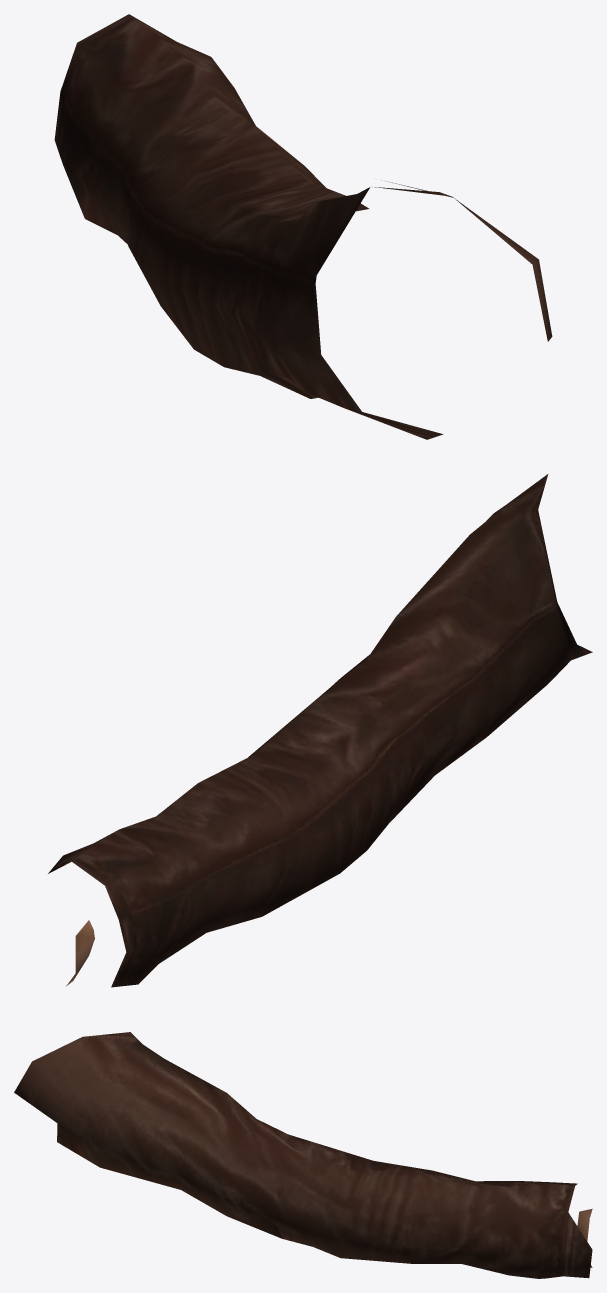
File: first_person_tool_sleeve.glb
The picture shows the model from 3 angles, top to bottom: view 1: azimuth 30°, elevation 25°; view 2: azimuth 150°, elevation 25°; view 3: azimuth 270°, elevation 25°; orthographic projection. The views are drawn at different scales.
Parts seen in each view (by area): view 1: QualifiedRightHand; view 2: QualifiedRightHand; view 3: QualifiedRightHand.
Boxes of the visible parts, x1,y1,x2,y2 form: QualifiedRightHand: [54, 14, 552, 439]; QualifiedRightHand: [48, 474, 592, 987]; QualifiedRightHand: [14, 1032, 592, 1278].
Bounding box in the file's own units: 0.1701 × 0.207 × 0.535.
1 material, 1 textured.
